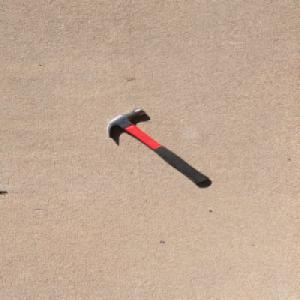Hammer: (104, 106, 211, 186)
